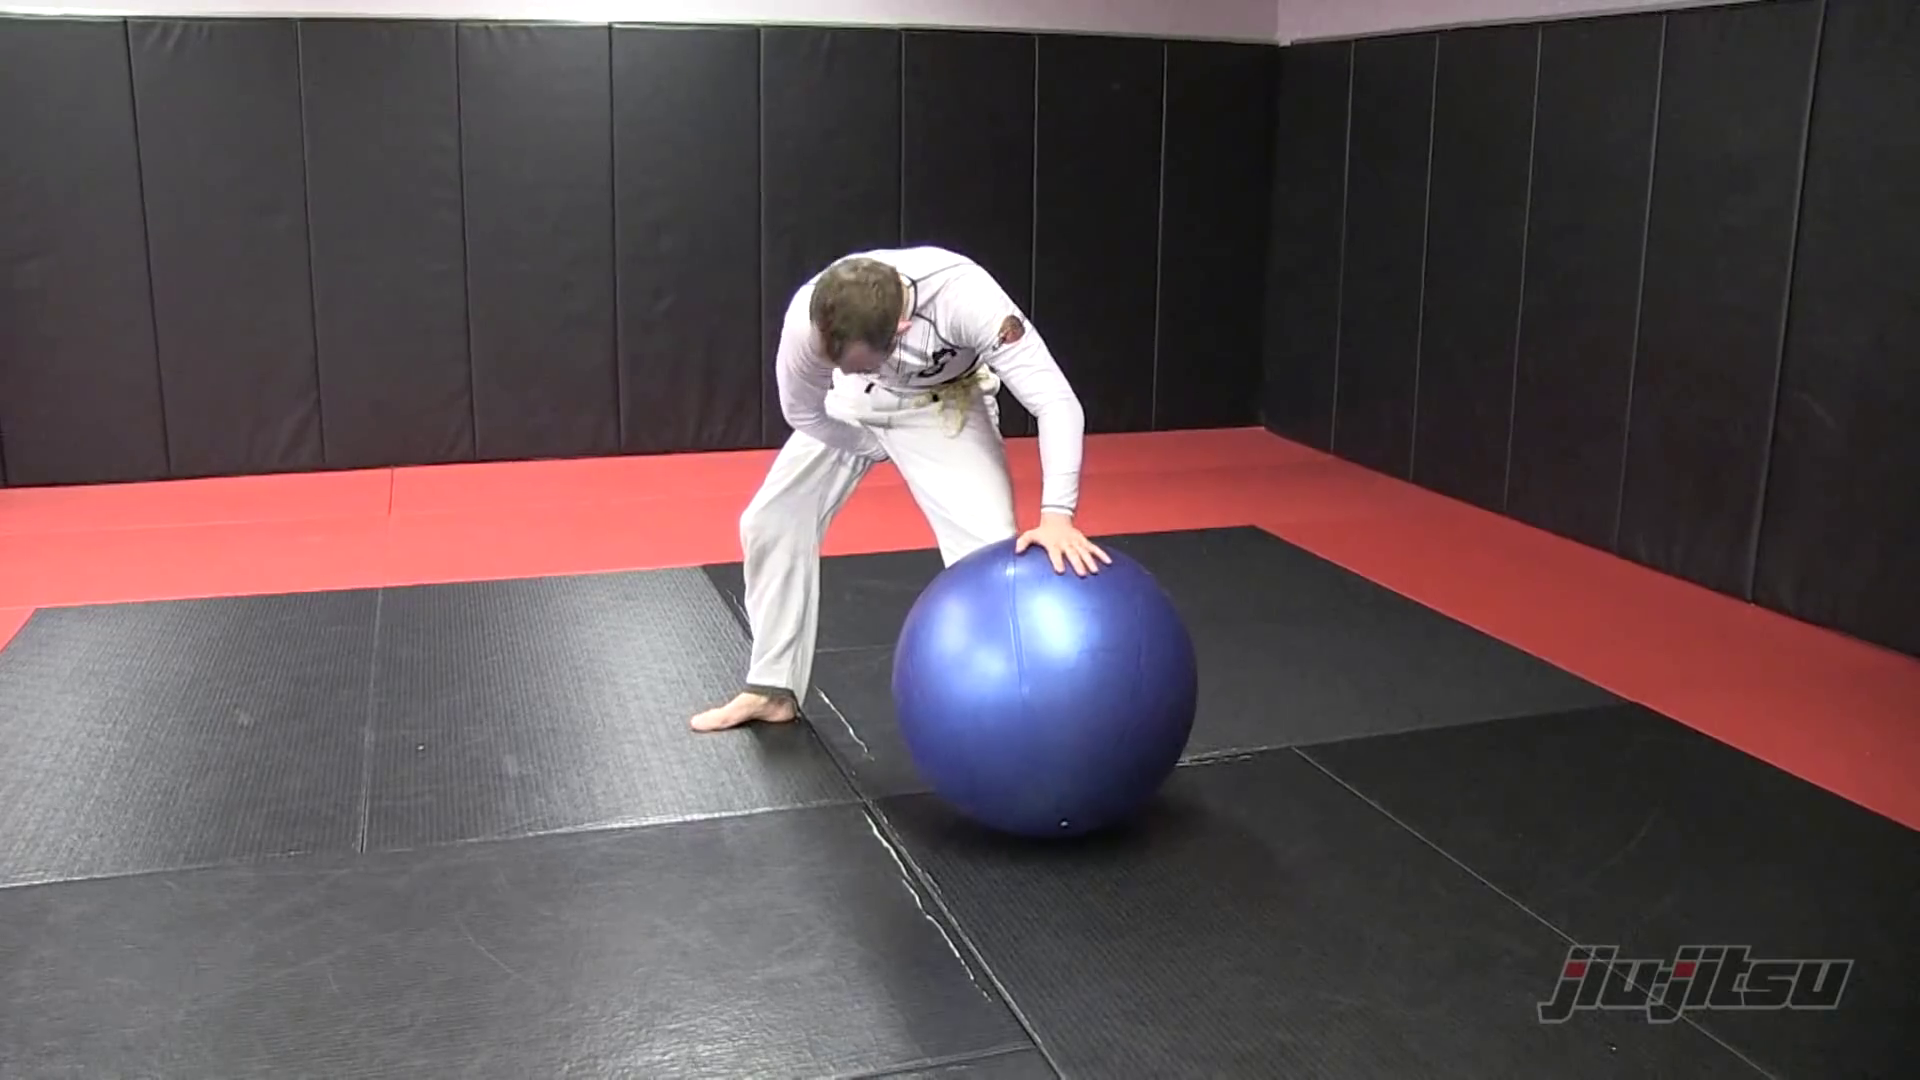yogaball: (881, 527, 1224, 862)
